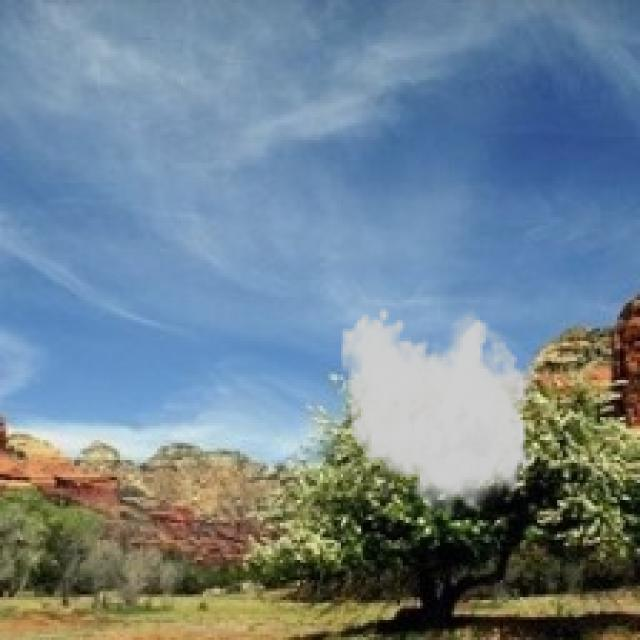Smoke: (337, 306, 543, 520)
